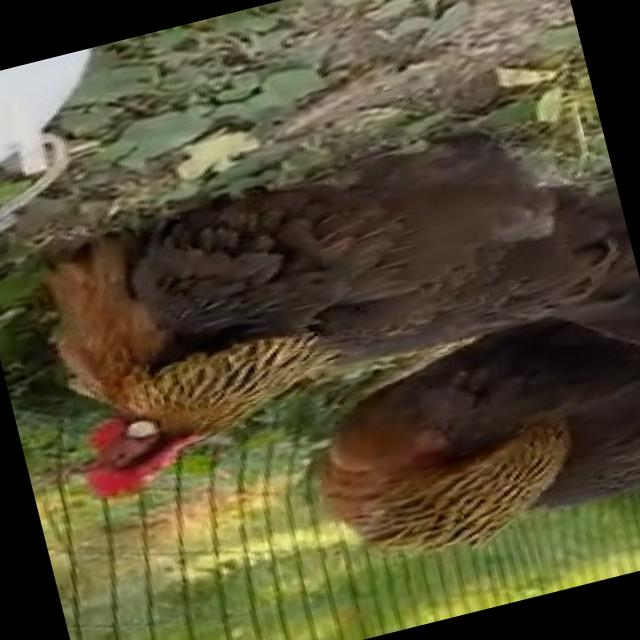self preening: (273, 277, 640, 594)
